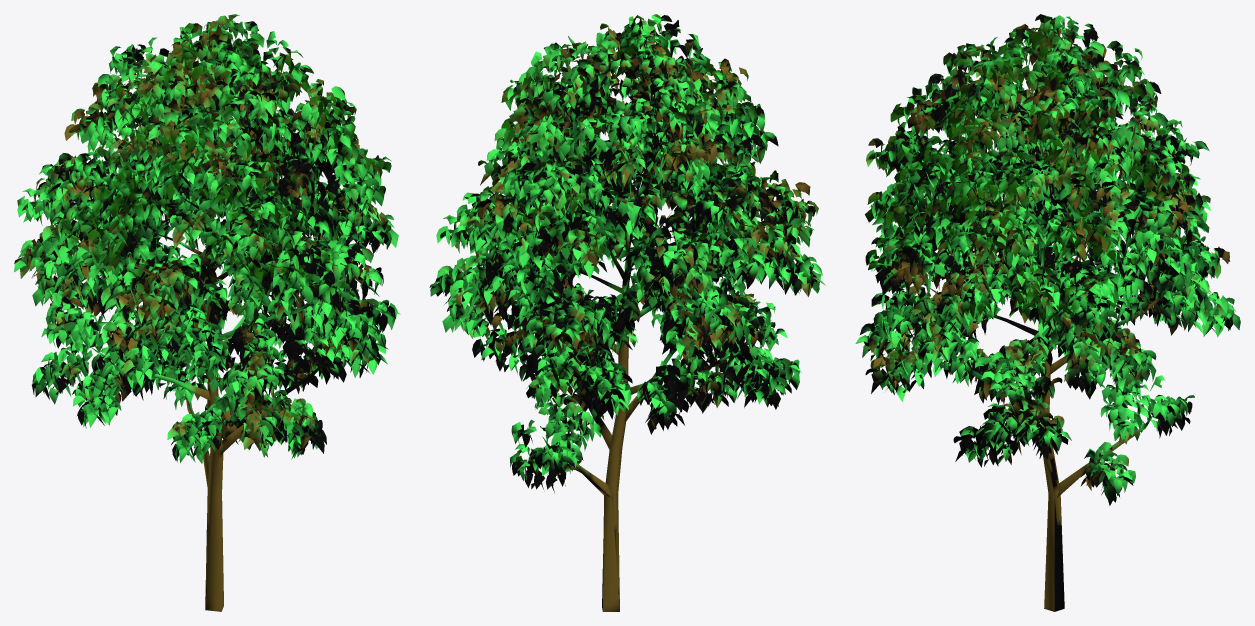
3 renders of one model, left to right at view 1: azimuth 30°, elevation 25°; view 2: azimuth 150°, elevation 25°; view 3: azimuth 270°, elevation 25°, orthographic. The views are drawn at different scales.
Parts seen in each view (by area): view 1: TREE3; view 2: TREE3; view 3: TREE3.
Part boxes in pixels (x1,y1,x2,y2): TREE3: (14,14,400,611); TREE3: (429,14,825,611); TREE3: (855,14,1240,611).
Bounding box in the file's own units: 486 × 796 × 481.
